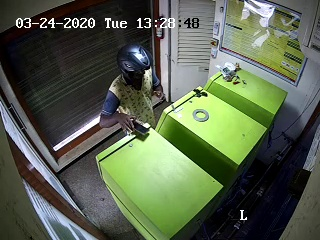helmet: (112, 41, 160, 89)
